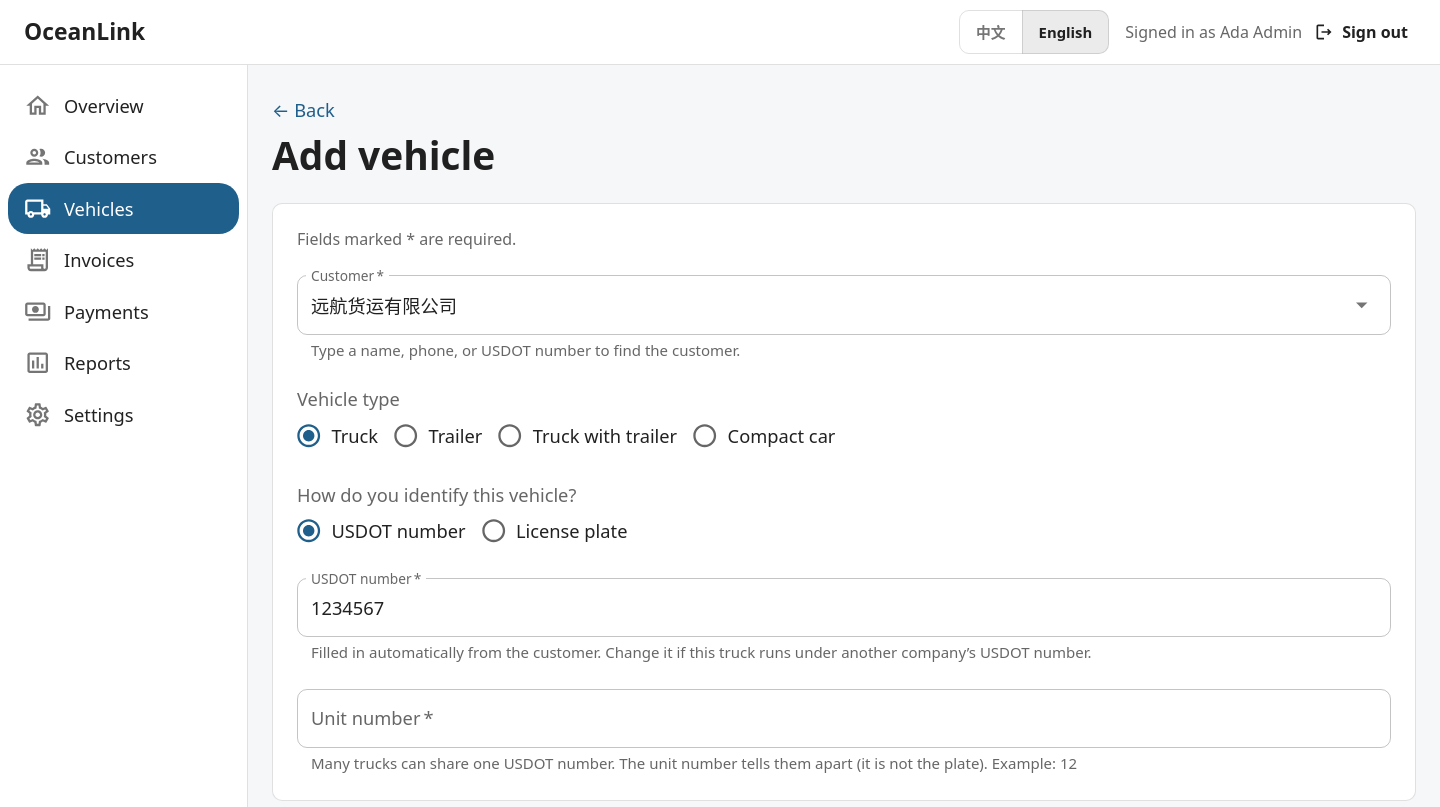
Test: vehicle form: server messages › shows a known error that has no field as a message above the form
The image size is (1440, 807).
Expected: the heading "Add vehicle" is shown, [272,131,495,179]
Step 1. Type "77" into the field labelled "Unit number *" → (844, 719), box [297,689,1391,748]
(page scrolled)
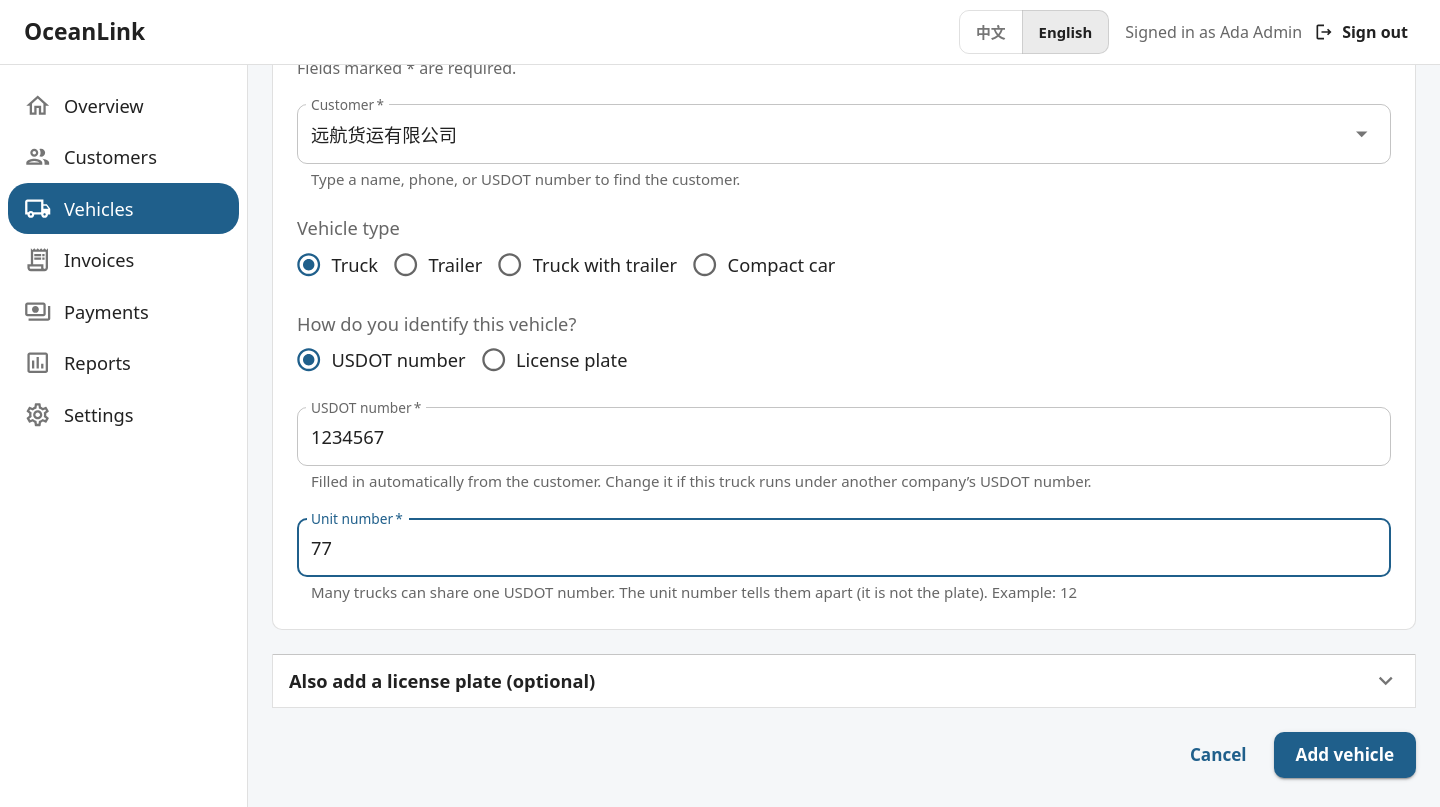
Step 2. Click the button "Add vehicle" → (1345, 755), box [1274,732,1416,778]
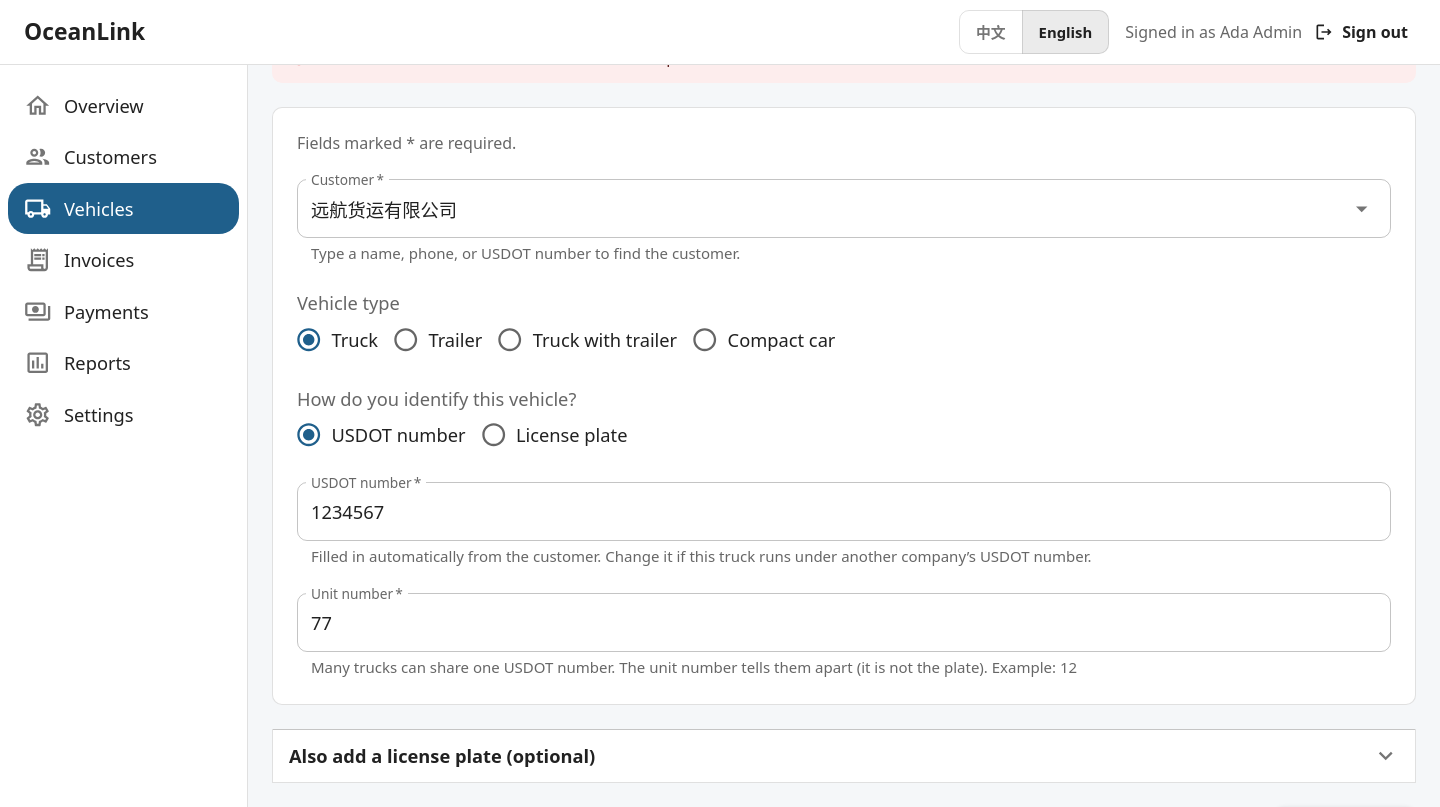
Expected: the message reads "A vehicle needs a USDOT number or a license plate.", [322,46,708,68]
